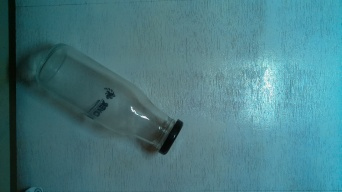f: (34, 39, 191, 161)
